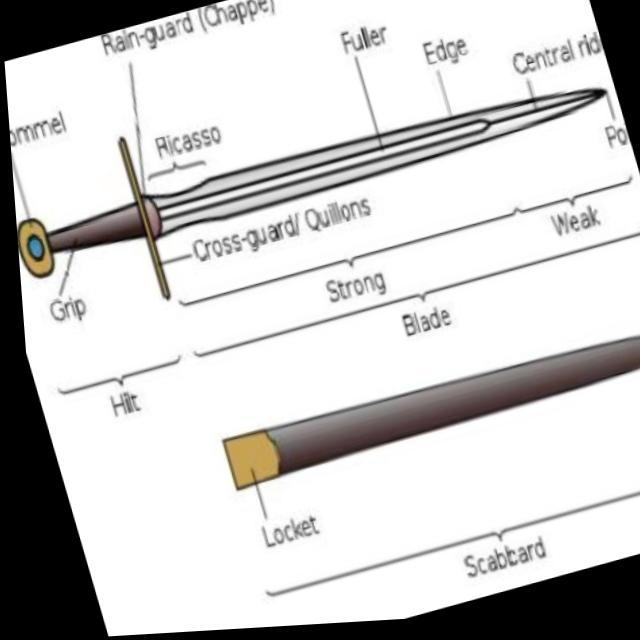weapon: (205, 320, 640, 492)
